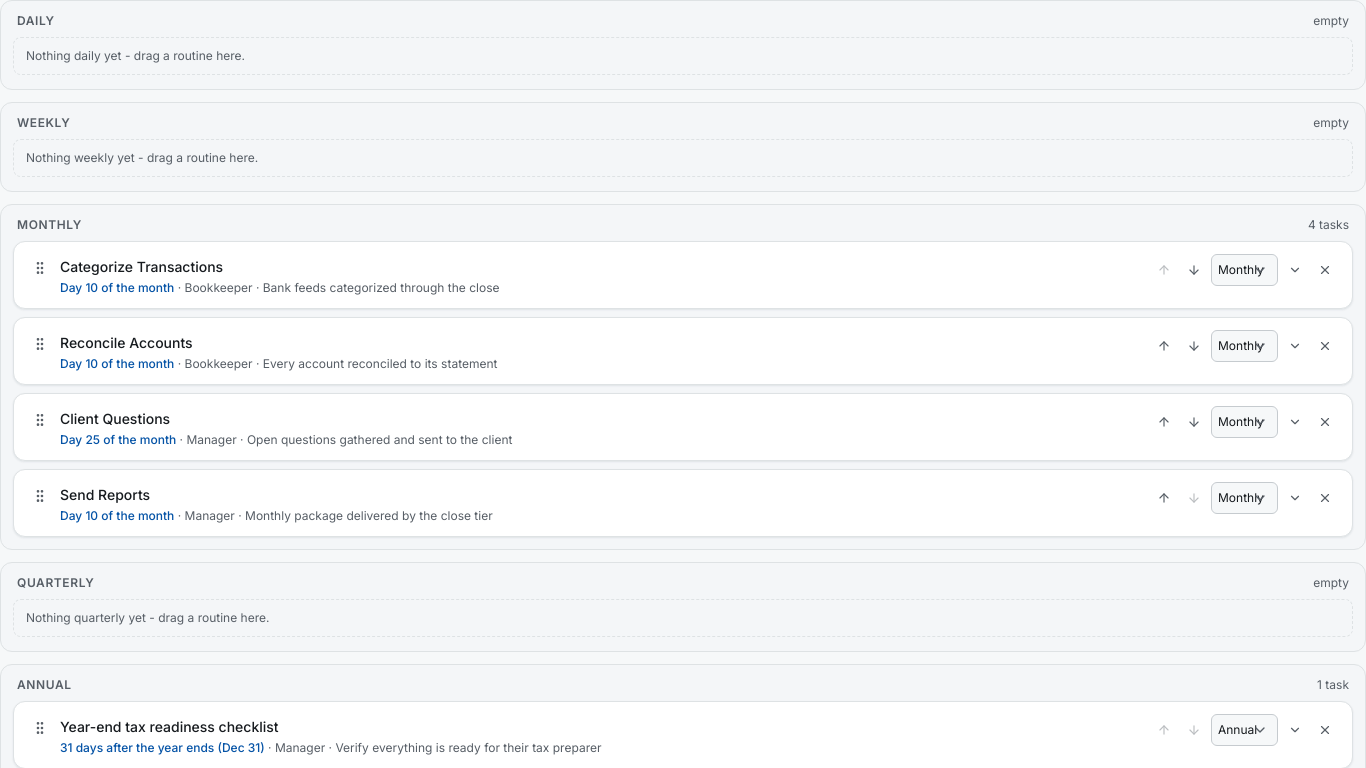
Test: J3 routine scheduler screen › drag_moves_task_between_buckets_and_persists
Select "Weekly" in the dropdown with test id "move-bucket-categorize_transactions" at (1244, 270), box [1211,254,1278,286]
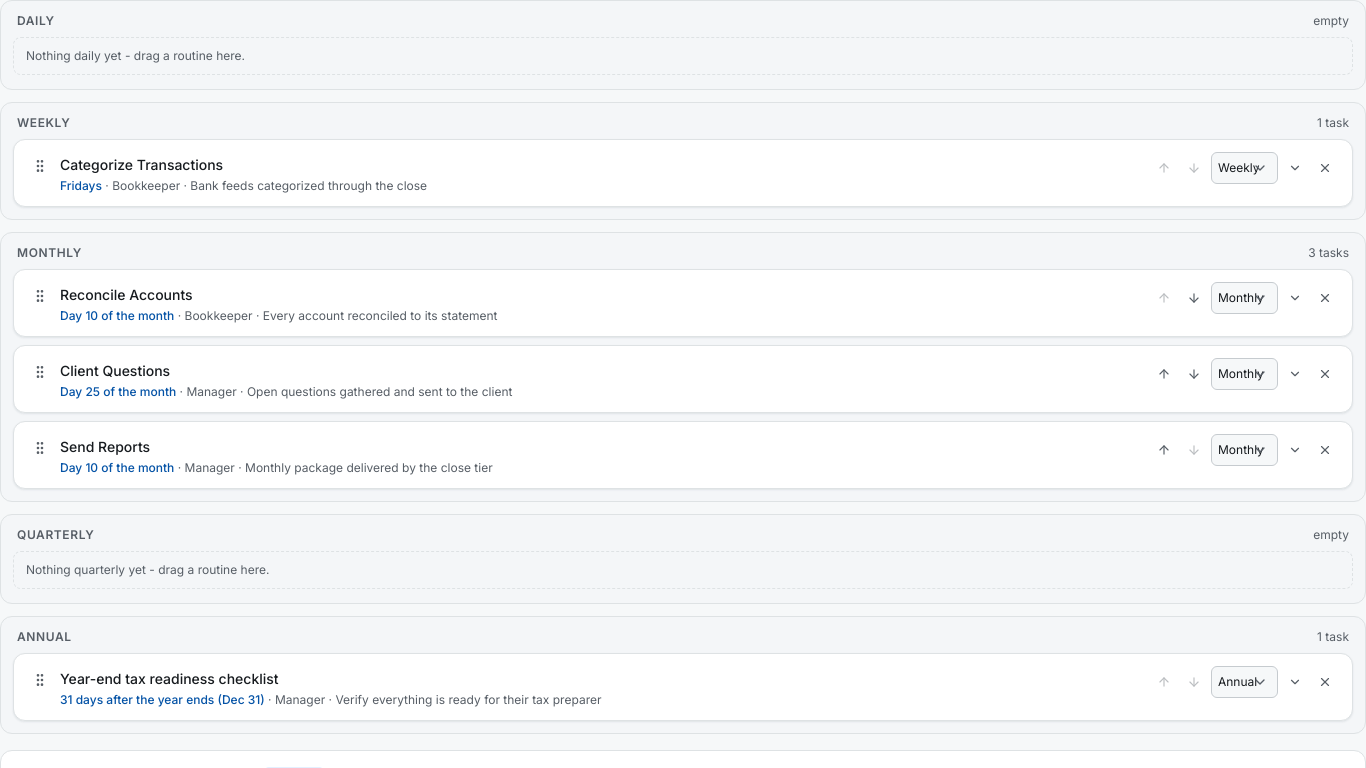
Now the text with test id "bucket-count-monthly" reads "3 tasks", box [1308,245,1349,260]
